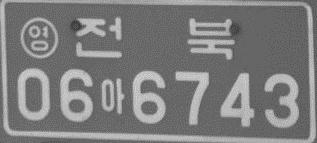0: (16, 67, 51, 122)
3: (263, 72, 300, 128)
4: (219, 71, 254, 126)
6: (131, 69, 166, 125), (58, 68, 94, 122)
7: (174, 69, 211, 126)
아: (100, 78, 125, 115)
영: (19, 16, 58, 60)
전북_D: (73, 16, 236, 59)
